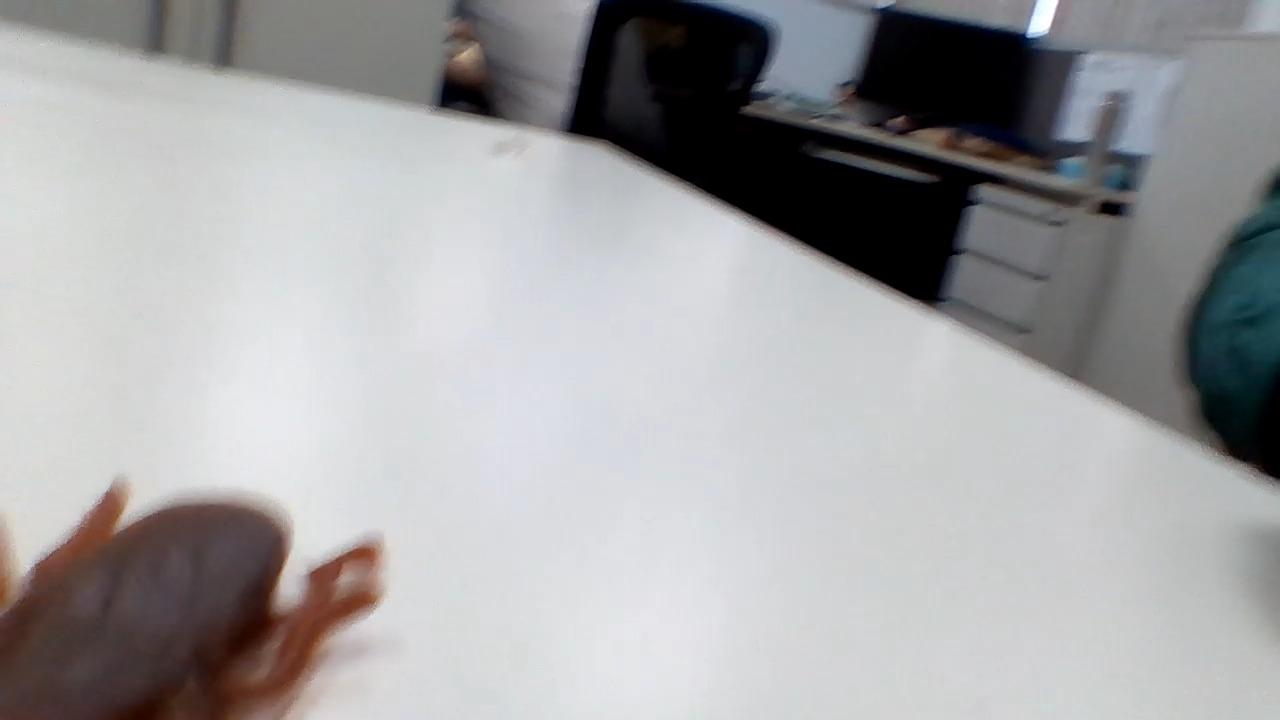cockroach: (0, 460, 387, 720)
